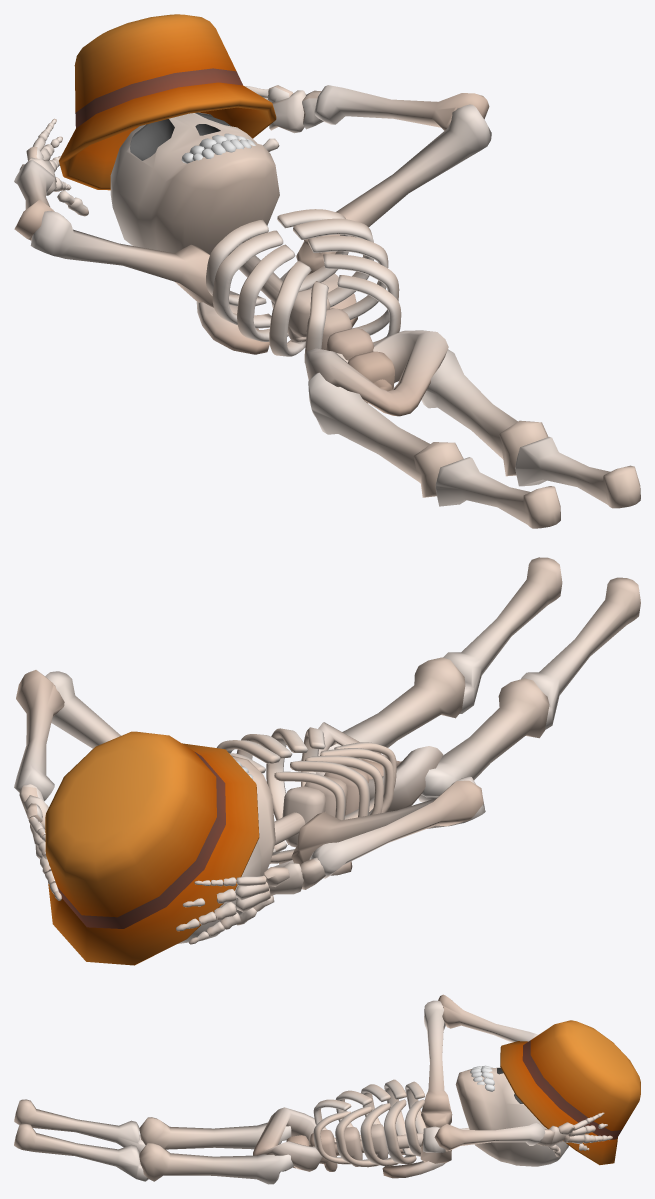
The model's file is Skeleton_01.fbx.
3 renders of one model, top to bottom at view 1: azimuth 30°, elevation 25°; view 2: azimuth 150°, elevation 25°; view 3: azimuth 270°, elevation 25°, orthographic. The views are drawn at different scales.
Parts seen in each view (by area): view 1: Skeleton_01; view 2: Skeleton_01; view 3: Skeleton_01.
Boxes of the visible parts, <box> form: Skeleton_01: <box>14,14,640,528</box>; Skeleton_01: <box>14,557,640,965</box>; Skeleton_01: <box>14,994,640,1184</box>.
Bounding box in the file's own units: 131 × 61.77 × 240.
